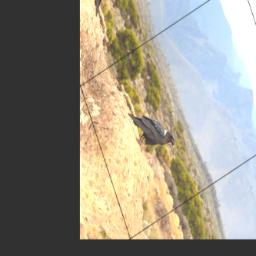Crow: (125, 90, 177, 168)
